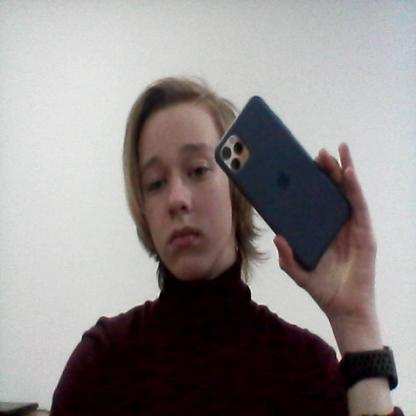phone: (214, 92, 364, 284)
